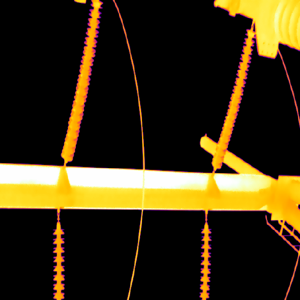insulator: (60, 0, 104, 161), (210, 28, 255, 170), (51, 220, 65, 300), (199, 220, 212, 300)
